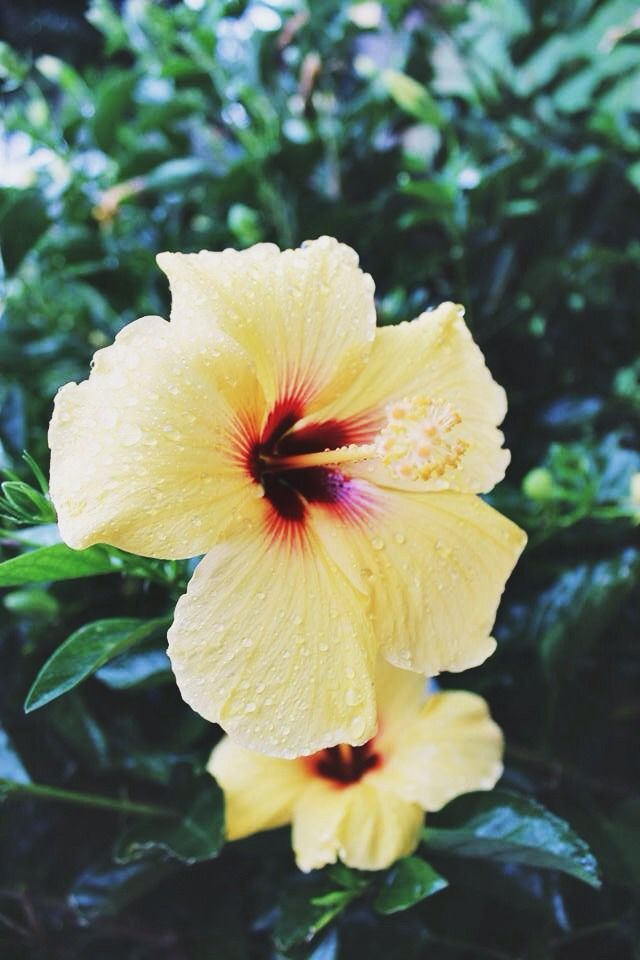Hibiscus: (45, 238, 514, 735), (204, 695, 504, 890)
